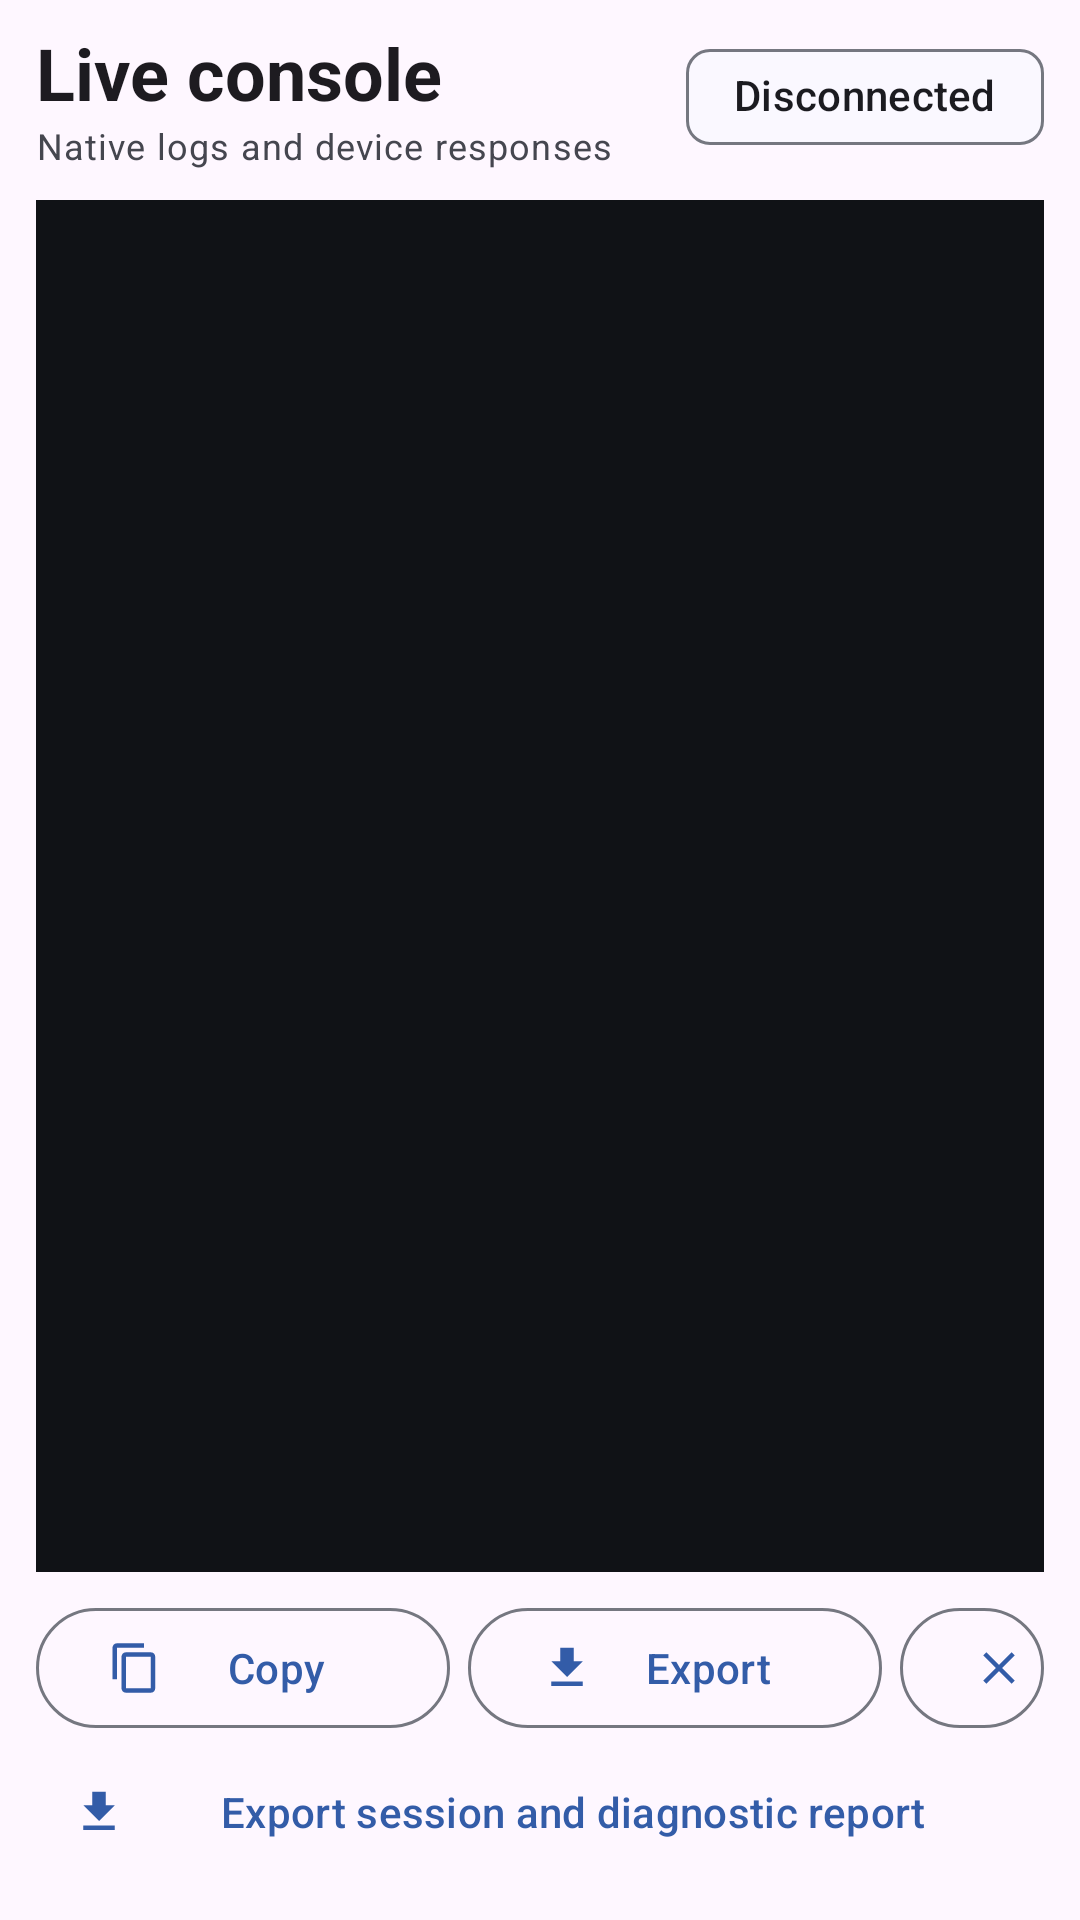

Where to tap for icons on this 1080×1920 app screen, as point (x, y):
Clear log: point (972, 1668)
